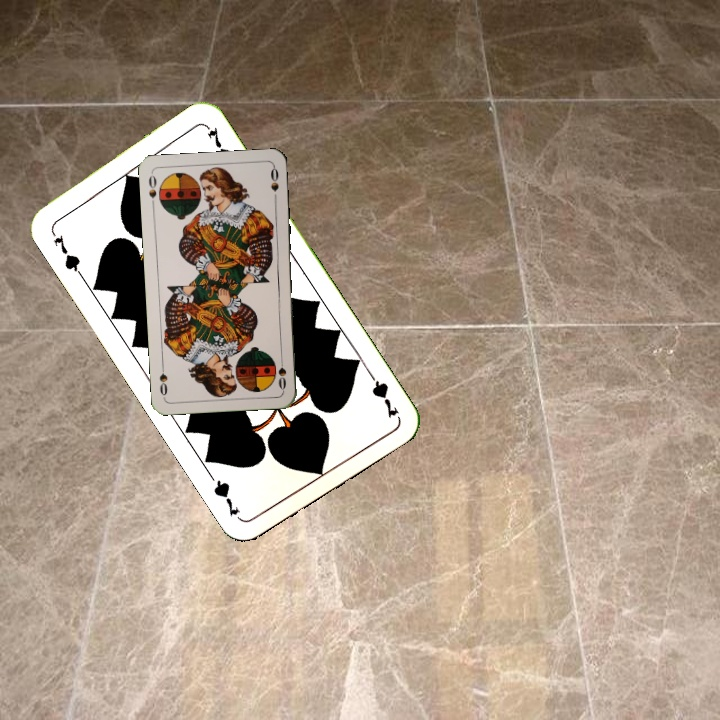G7: (362, 365, 402, 421), (46, 225, 85, 278)
SO: (274, 352, 289, 392), (145, 171, 159, 211)
